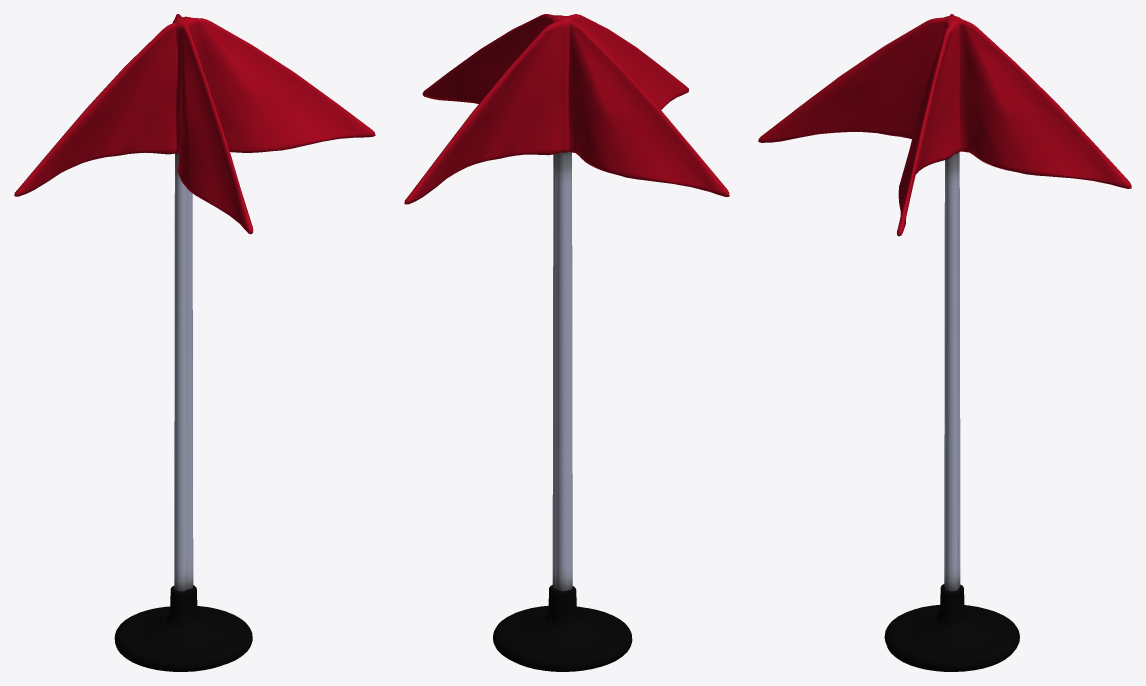
File: UmbrellaFlagFbx.fbx
3 views of the same model, side by side, from view 1: azimuth 30°, elevation 25°; view 2: azimuth 150°, elevation 25°; view 3: azimuth 270°, elevation 25° (orthographic).
Parts seen in each view (by area): view 1: node_id72 (×2), node_id85 (×2); view 2: node_id85 (×2), node_id72 (×2); view 3: node_id85 (×2), node_id72 (×2).
Boxes of the visible parts, box(x1,y1,x2,y2) form: node_id72 (×2): box(14, 16, 375, 664); node_id85 (×2): box(114, 14, 253, 671); node_id85 (×2): box(404, 14, 688, 671); node_id72 (×2): box(422, 14, 729, 661); node_id85 (×2): box(758, 15, 1131, 649); node_id72 (×2): box(886, 14, 1015, 671).
Size of the model in its own units: 0.2847 by 0.512 by 0.2763.
Materials: 1 (1 with a texture image).
